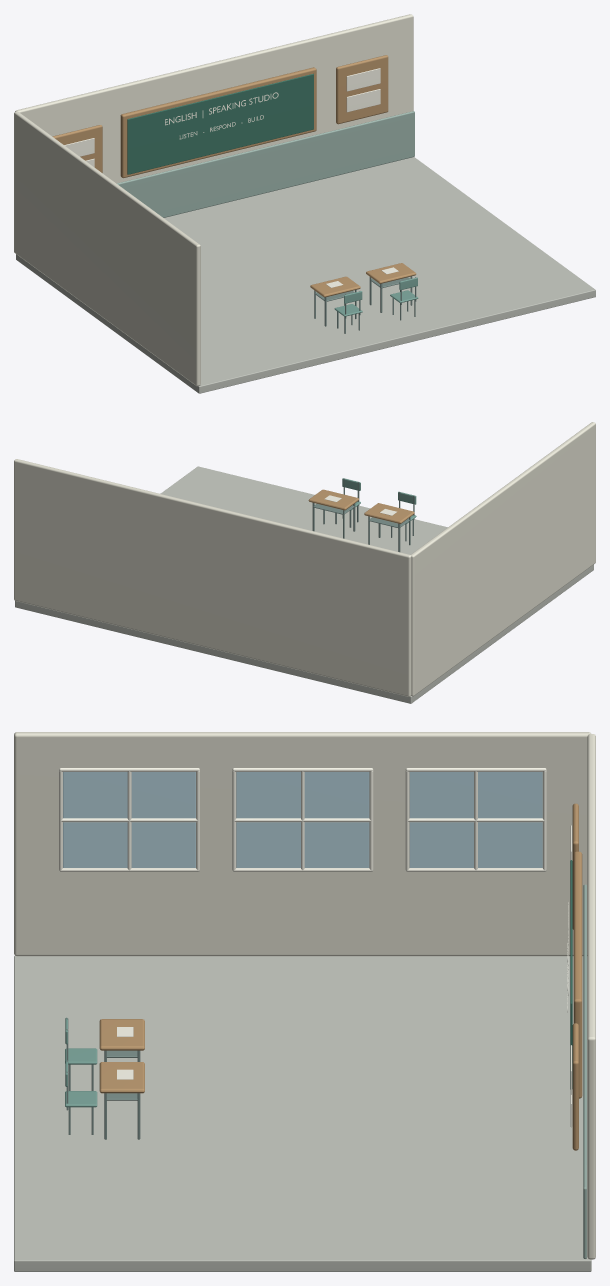
File: classroom.glb
The picture shows the model from 3 angles, top to bottom: view 1: azimuth 30°, elevation 25°; view 2: azimuth 150°, elevation 25°; view 3: azimuth 270°, elevation 25°; orthographic projection. The views are drawn at different scales.
Parts seen in each view (by area): view 1: Terrazzo floor, Left wall, Back plaster wall, Lower green wall, Green chalkboard, Chalkboard frame, Classroom noticeboard.001, Classroom noticeboard, Rounded wooden desktop, Rounded wooden desktop.001, Notice sheet.002, Notice sheet.003; view 2: Back plaster wall, Left wall, Terrazzo floor, Rounded wooden desktop, Rounded wooden desktop.001; view 3: Terrazzo floor, Left wall, Window light.001, Window light, Window light.002, Back plaster wall, Chalkboard frame, Lower green wall, Rounded wooden desktop.001, Rounded wooden desktop, Classroom noticeboard.001.
Part boxes in pixels (x1,y1,x2,y2): Terrazzo floor: [16, 157, 595, 393]; Left wall: [14, 111, 200, 386]; Back plaster wall: [15, 14, 413, 183]; Lower green wall: [117, 111, 414, 217]; Green chalkboard: [127, 73, 313, 174]; Chalkboard frame: [120, 67, 316, 178]; Classroom noticeboard.001: [336, 55, 388, 124]; Classroom noticeboard: [52, 125, 102, 172]; Rounded wooden desktop: [310, 276, 360, 297]; Rounded wooden desktop.001: [366, 263, 416, 283]; Notice sheet.002: [346, 89, 380, 112]; Notice sheet.003: [346, 68, 380, 91]; Back plaster wall: [14, 459, 411, 696]; Left wall: [411, 422, 595, 696]; Terrazzo floor: [15, 466, 593, 703]; Rounded wooden desktop: [364, 503, 414, 523]; Rounded wooden desktop.001: [308, 489, 358, 510]; Terrazzo floor: [14, 956, 591, 1271]; Left wall: [14, 732, 591, 956]; Window light.001: [236, 772, 369, 867]; Window light: [63, 772, 195, 867]; Window light.002: [409, 772, 542, 867]; Back plaster wall: [587, 734, 595, 1259]; Chalkboard frame: [573, 851, 582, 1098]; Lower green wall: [583, 884, 586, 1258]; Rounded wooden desktop.001: [99, 1062, 144, 1093]; Rounded wooden desktop: [99, 1019, 144, 1050]; Classroom noticeboard.001: [572, 1023, 578, 1150].
Bounding box in the file's own units: 10.06 × 3.58 × 8.06.
